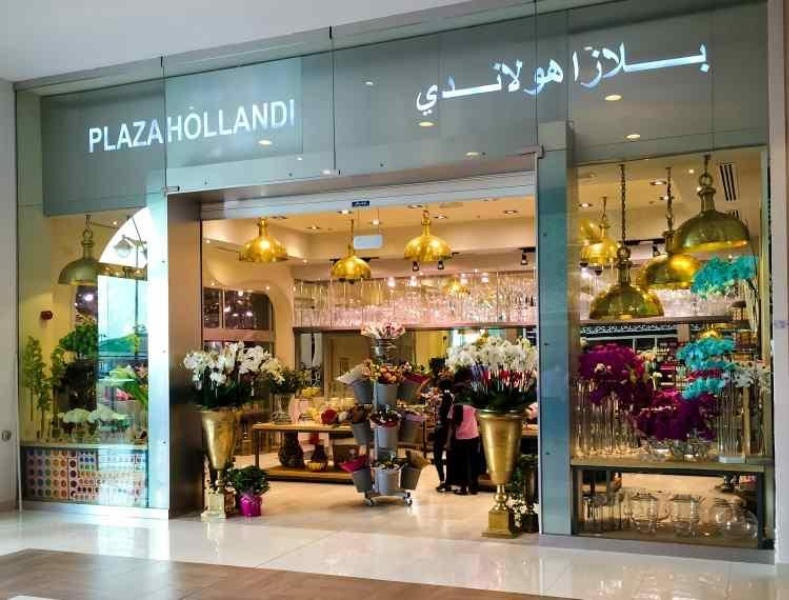text: (433, 44, 448, 121), (449, 44, 464, 121), (465, 44, 480, 121), (481, 44, 496, 121), (497, 44, 512, 121), (513, 44, 528, 121), (529, 44, 544, 121), (545, 44, 560, 121), (419, 44, 432, 121), (577, 31, 592, 96), (593, 31, 608, 96), (609, 31, 624, 96), (625, 31, 640, 96), (641, 31, 656, 96), (657, 31, 672, 96), (673, 31, 688, 96), (689, 31, 704, 96), (563, 31, 576, 96), (705, 31, 717, 96), (177, 95, 192, 146), (193, 95, 208, 146), (209, 95, 224, 146), (225, 95, 240, 146), (241, 95, 256, 146), (257, 95, 272, 146), (273, 95, 288, 146), (97, 116, 112, 155), (113, 116, 128, 155), (129, 116, 144, 155), (145, 116, 160, 155), (165, 95, 176, 146), (289, 95, 299, 146), (561, 44, 566, 121), (88, 116, 96, 155), (161, 116, 169, 155)
